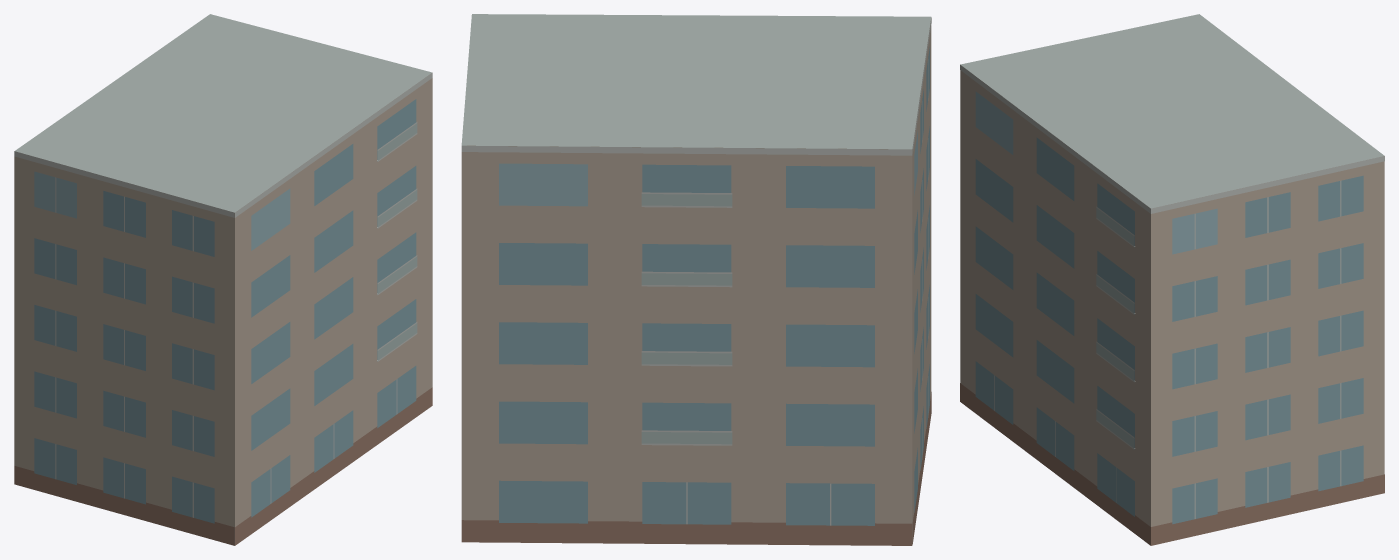
File: survey-upis-32934941.glb
The picture shows the model from 3 angles, left to right: view 1: azimuth 30°, elevation 25°; view 2: azimuth 150°, elevation 25°; view 3: azimuth 270°, elevation 25°; orthographic projection. The views are drawn at different scales.
Visible parts, largest first — view 1: survey-upis-32934941.tmp; view 2: survey-upis-32934941.tmp; view 3: survey-upis-32934941.tmp.
Boxes of the visible parts, left/top/right/bottom form: survey-upis-32934941.tmp: left=14, top=14, right=432, bottom=545; survey-upis-32934941.tmp: left=461, top=14, right=931, bottom=545; survey-upis-32934941.tmp: left=960, top=14, right=1384, bottom=545.
Bounding box in the file's own units: 18.88 × 15.25 × 17.41.
